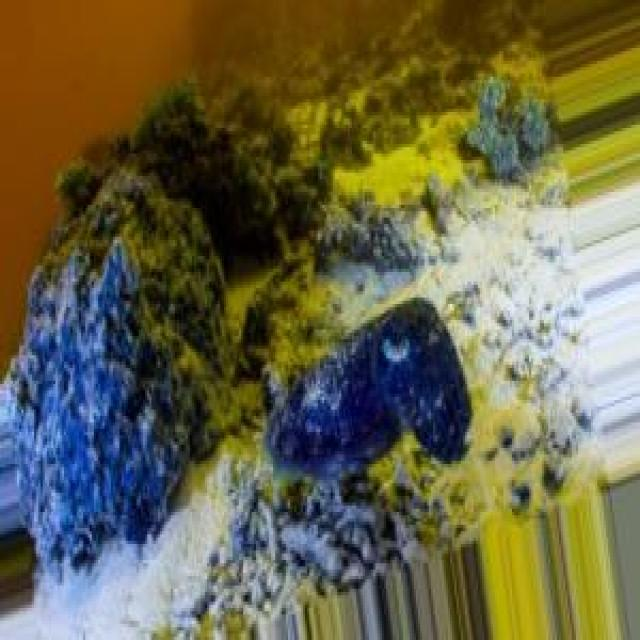Healthy: (1, 1, 615, 640), (22, 267, 172, 587), (125, 94, 330, 321), (22, 228, 214, 462), (255, 299, 464, 480), (468, 59, 560, 187)
